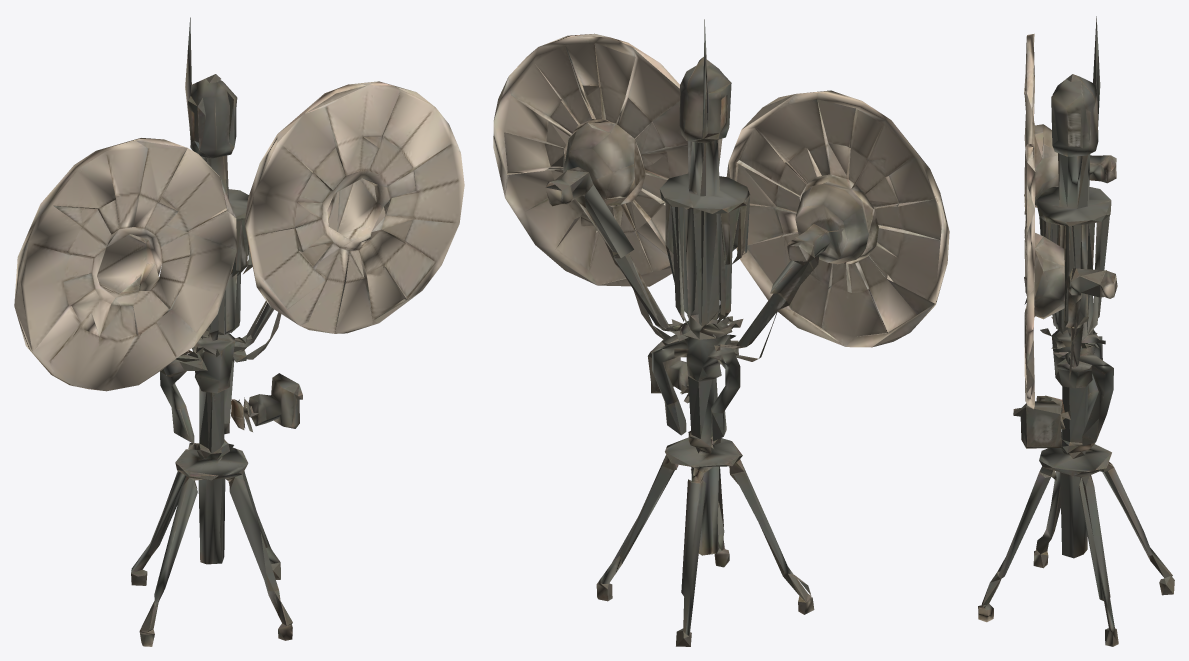
The model's file is relay-uplink.glb.
3 views of the same model, side by side, from view 1: azimuth 30°, elevation 25°; view 2: azimuth 150°, elevation 25°; view 3: azimuth 270°, elevation 25° (orthographic). The views are drawn at different scales.
Parts seen in each view (by area): view 1: mesh_node; view 2: mesh_node; view 3: mesh_node.
Part boxes in pixels (left/top/right/bottom): mesh_node: left=14, top=17, right=464, bottom=646; mesh_node: left=493, top=19, right=949, bottom=646; mesh_node: left=978, top=16, right=1174, bottom=646.
Bounding box in the file's own units: 1.58 × 2 × 0.6078.
Materials: 1 (1 with a texture image).
